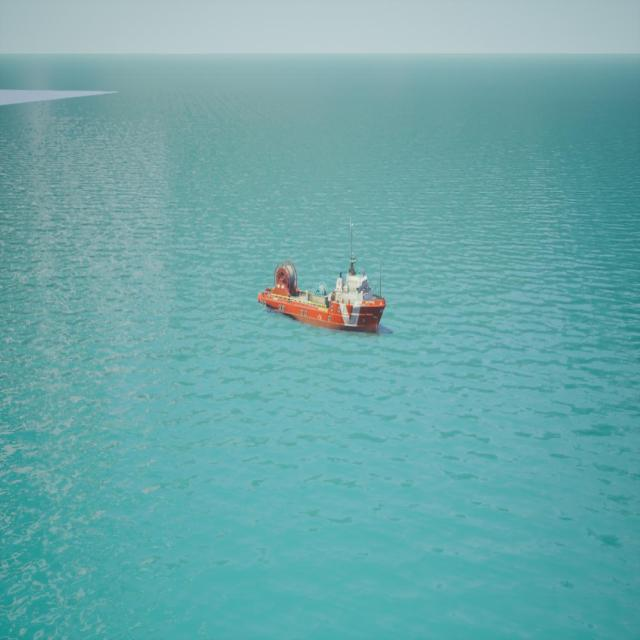tug boat: (258, 227, 390, 340)
